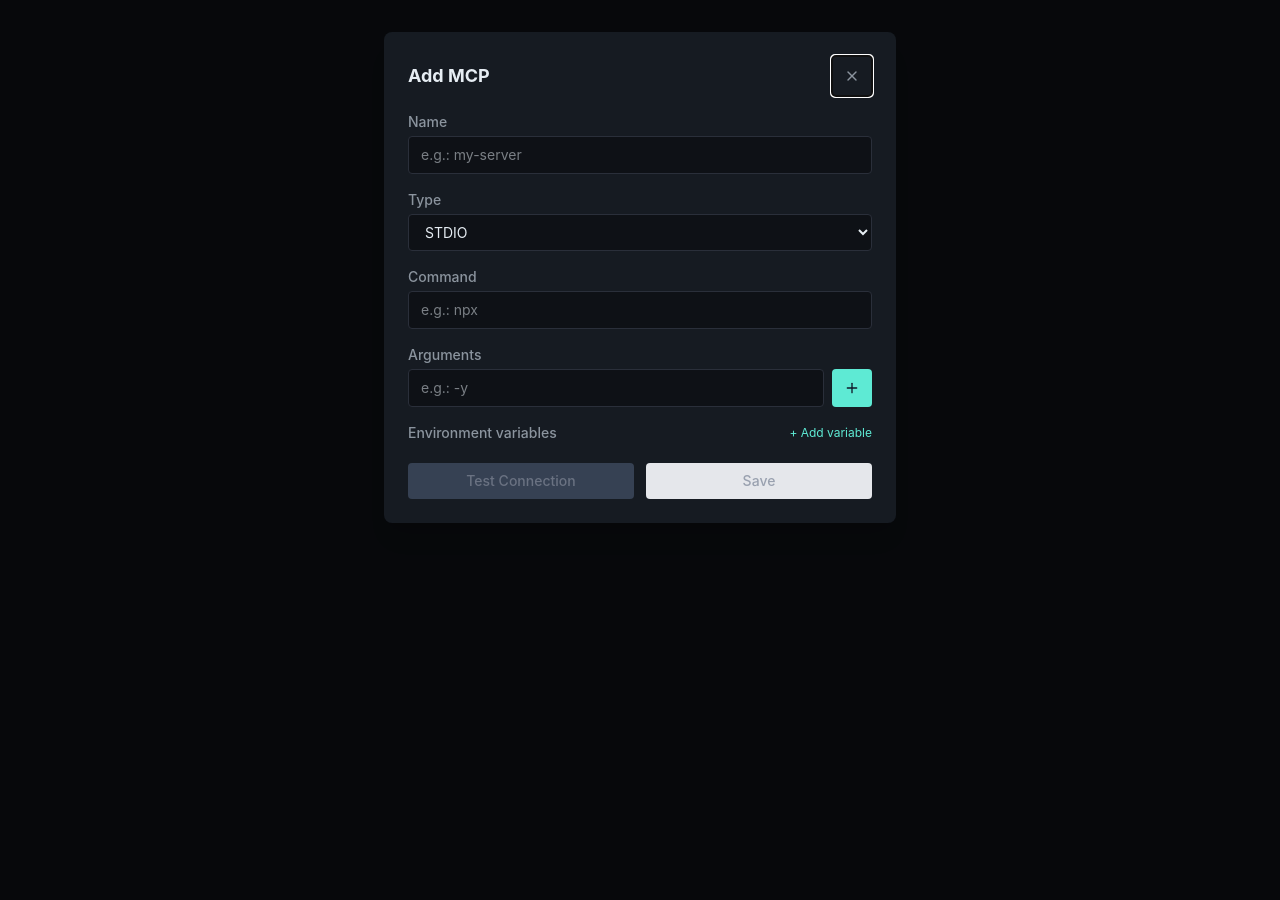
Test case: AddMCPModal — User Story 1: Test Then Auto-Save › does NOT auto-save when test returns non-auth error
Step 1. Type "test-mcp" into the field with placeholder "e.g.: my-server" → (640, 155), box [408,136,872,174]
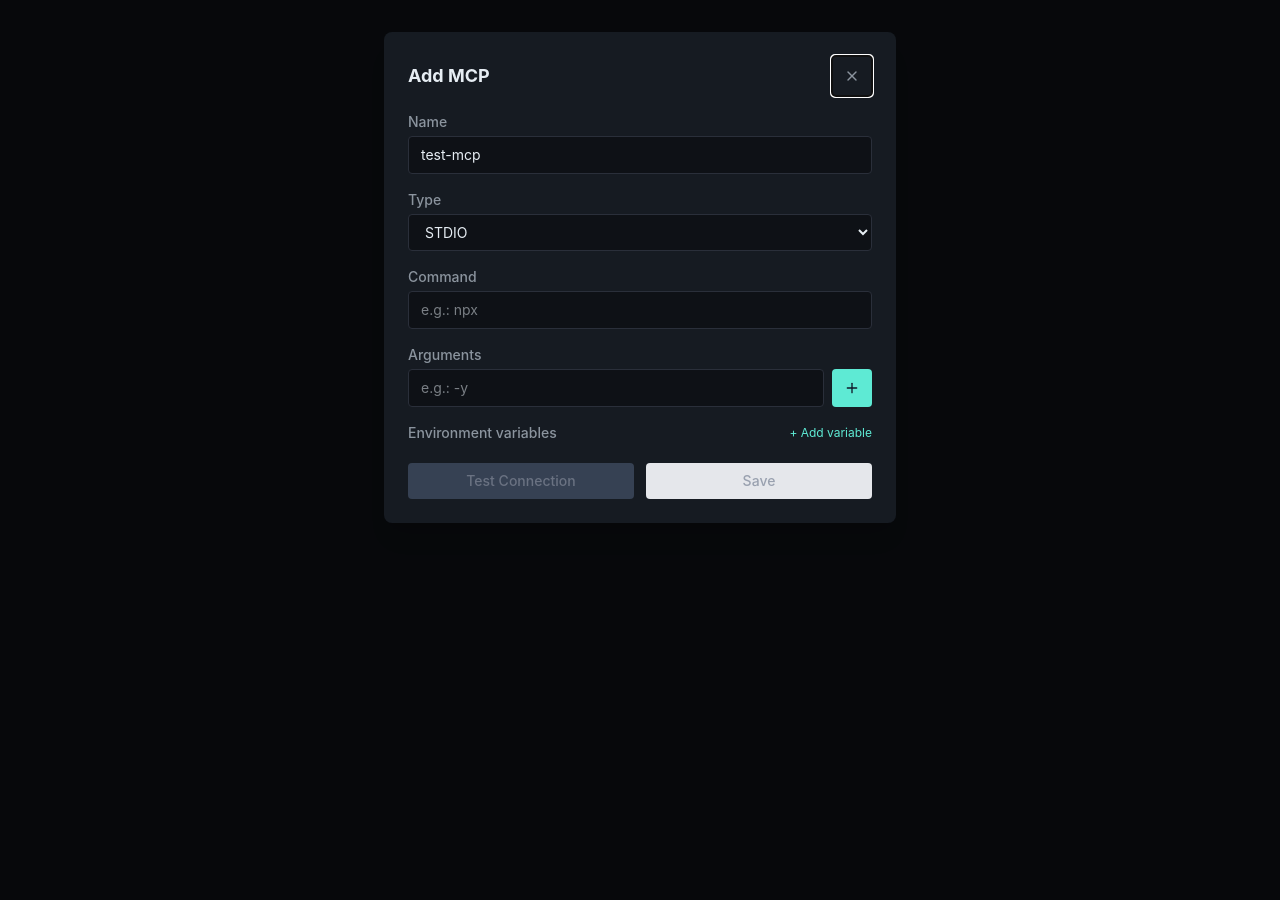
Step 2. Select "STDIO" in the dropdown showing "STDIO" → (640, 232), box [408,214,872,251]
Step 3. Type "echo" into the field with placeholder "e.g.: npx" → (640, 310), box [408,291,872,329]
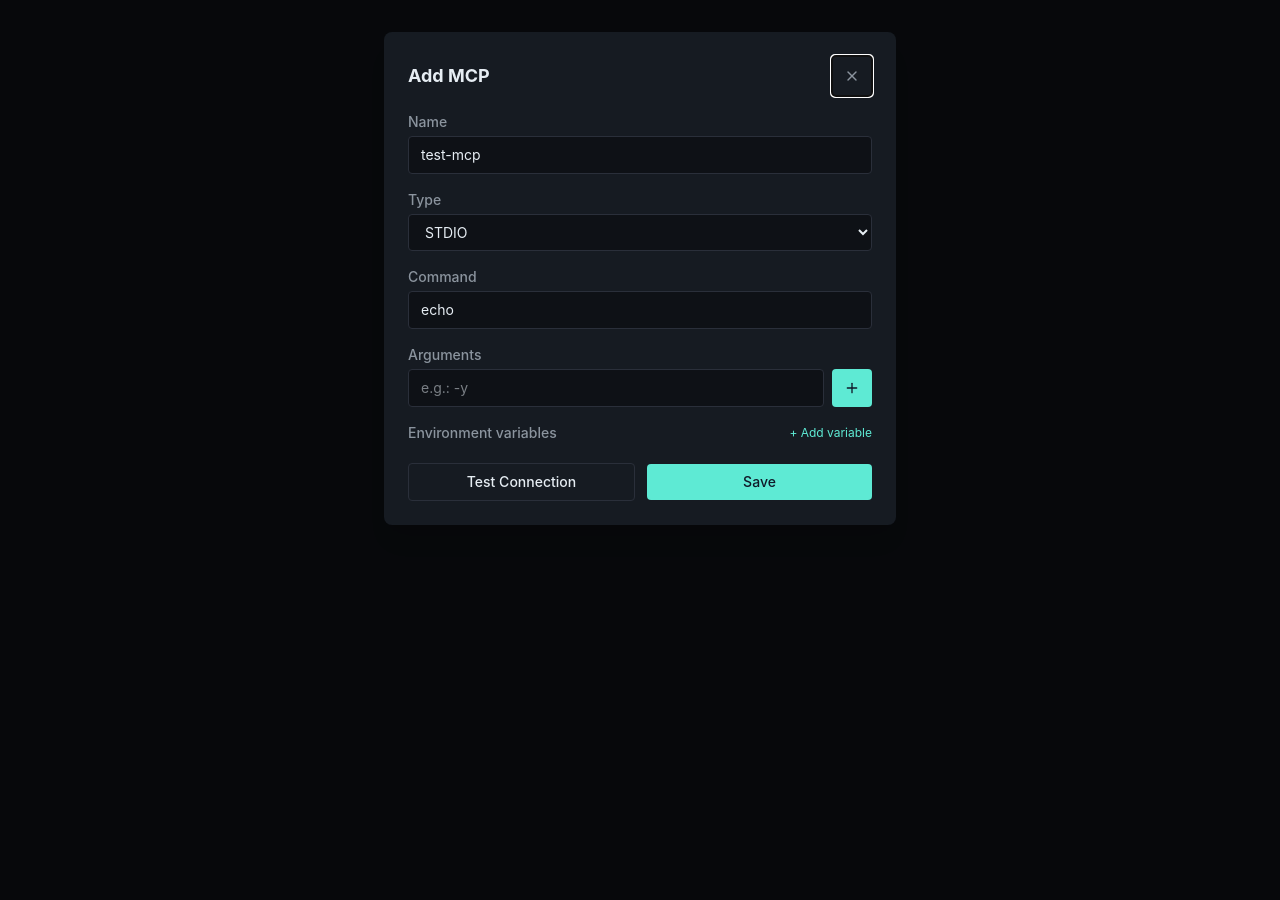
Step 4. Click the button "Test Connection" → click(522, 482), box [408,463,635,501]
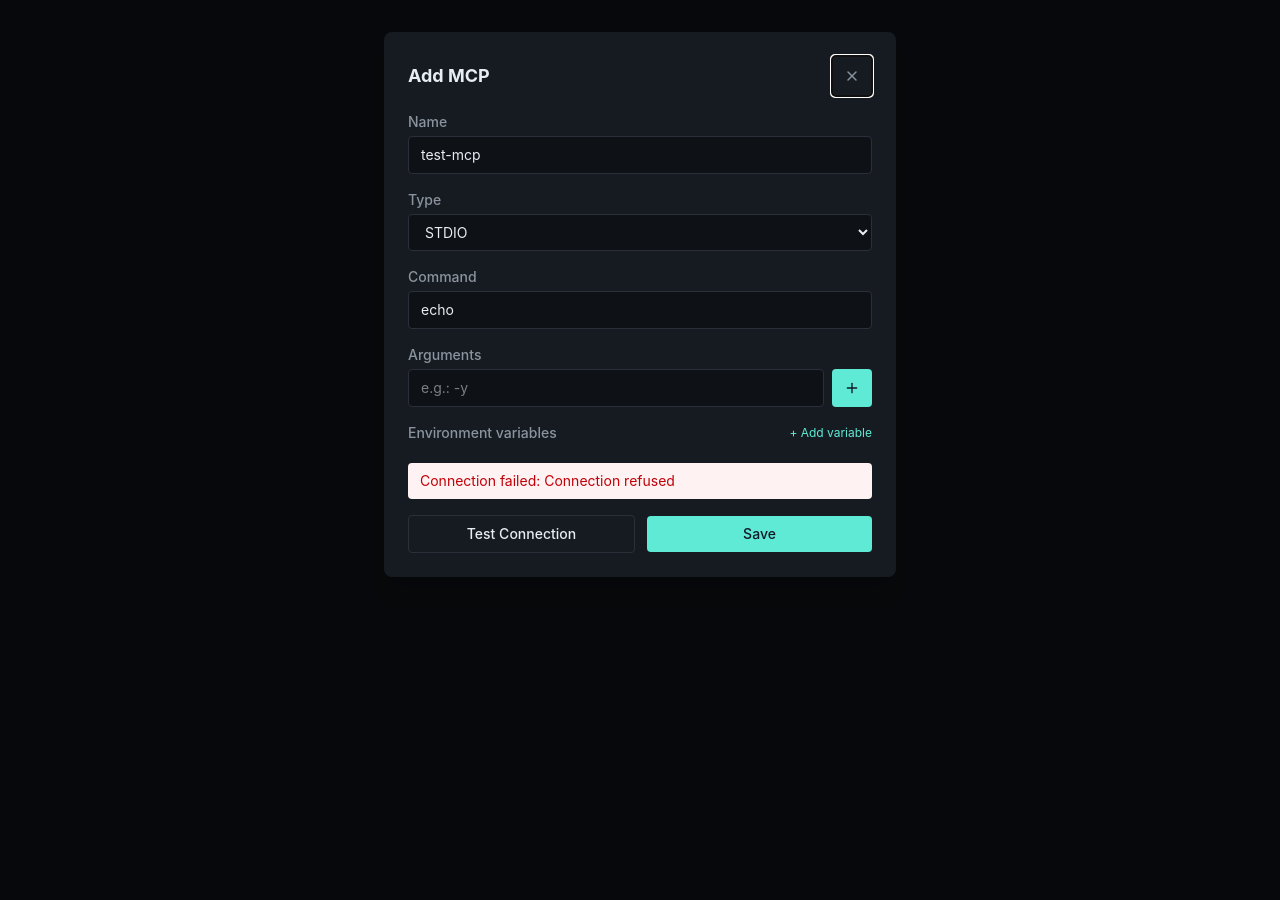
Check: the text "Connection failed: Connection refused" is shown, box [408,463,872,499]
